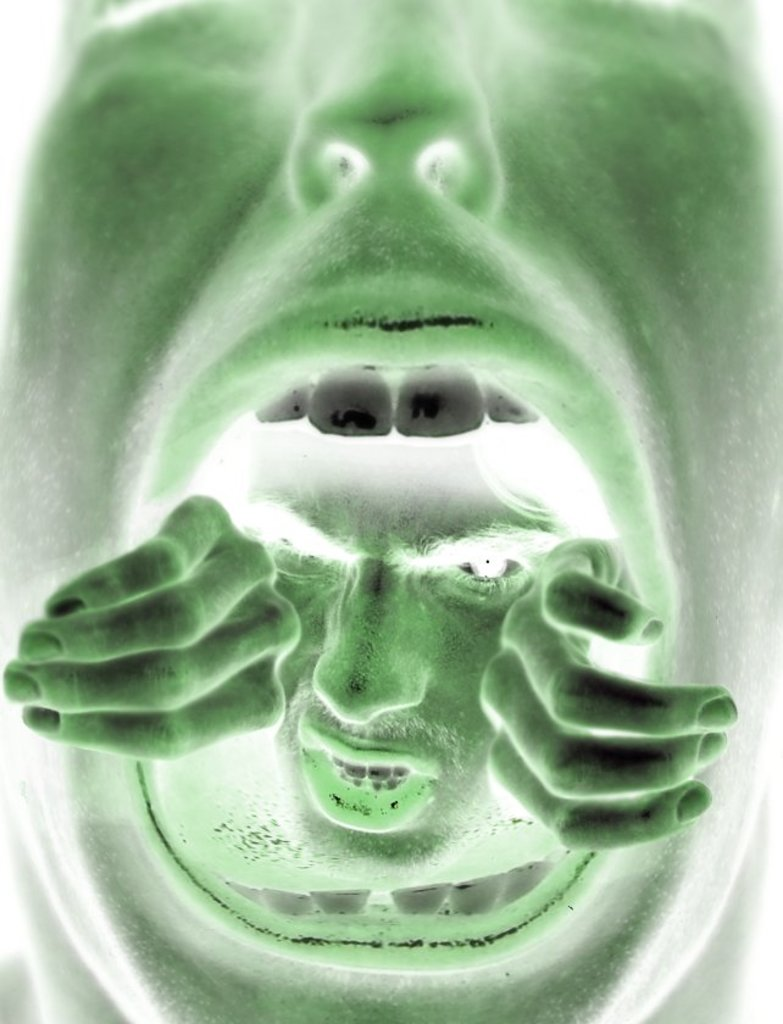Human_hand: (477, 533, 738, 847), (0, 490, 300, 762)
